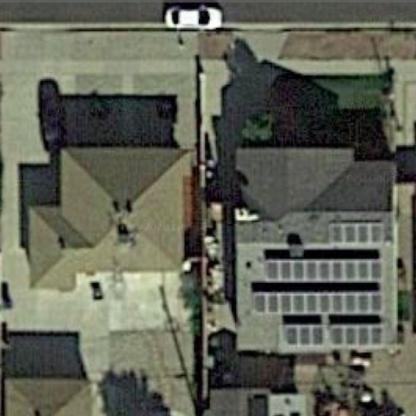car: (157, 7, 236, 37)
solar_panel: (247, 288, 392, 320), (268, 318, 396, 354), (257, 252, 386, 286), (322, 216, 392, 251)
